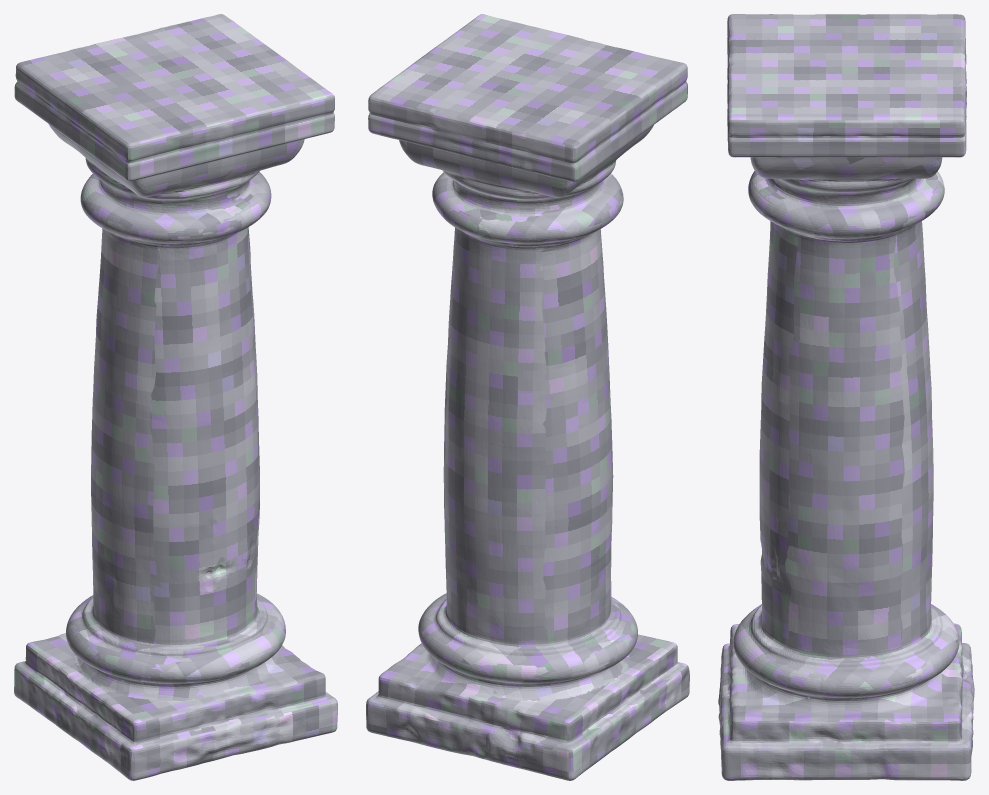
Rendered from weathered-monolith-pillar-generated-2026-04-18T22-01-36-007Z.glb.
3 renders of one model, left to right at view 1: azimuth 30°, elevation 25°; view 2: azimuth 150°, elevation 25°; view 3: azimuth 270°, elevation 25°, orthographic. The views are drawn at different scales.
Visible parts, largest first — view 1: temp_mesh.ply; view 2: temp_mesh.ply; view 3: temp_mesh.ply.
Boxes of the visible parts, x1=… form: temp_mesh.ply: x1=14, y1=14, x2=337, y2=780; temp_mesh.ply: x1=366, y1=14, x2=689, y2=780; temp_mesh.ply: x1=718, y1=14, x2=974, y2=780.
Bounding box in the file's own units: 0.6844 × 1.97 × 0.6912.
1 material, 1 textured.
